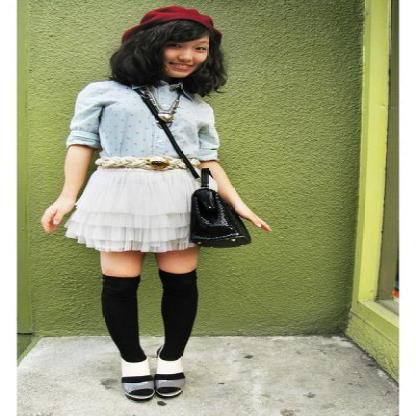bag: (126, 86, 250, 248)
dress: (64, 81, 220, 252)
hat: (147, 6, 212, 27)
shoe: (105, 358, 186, 403)
